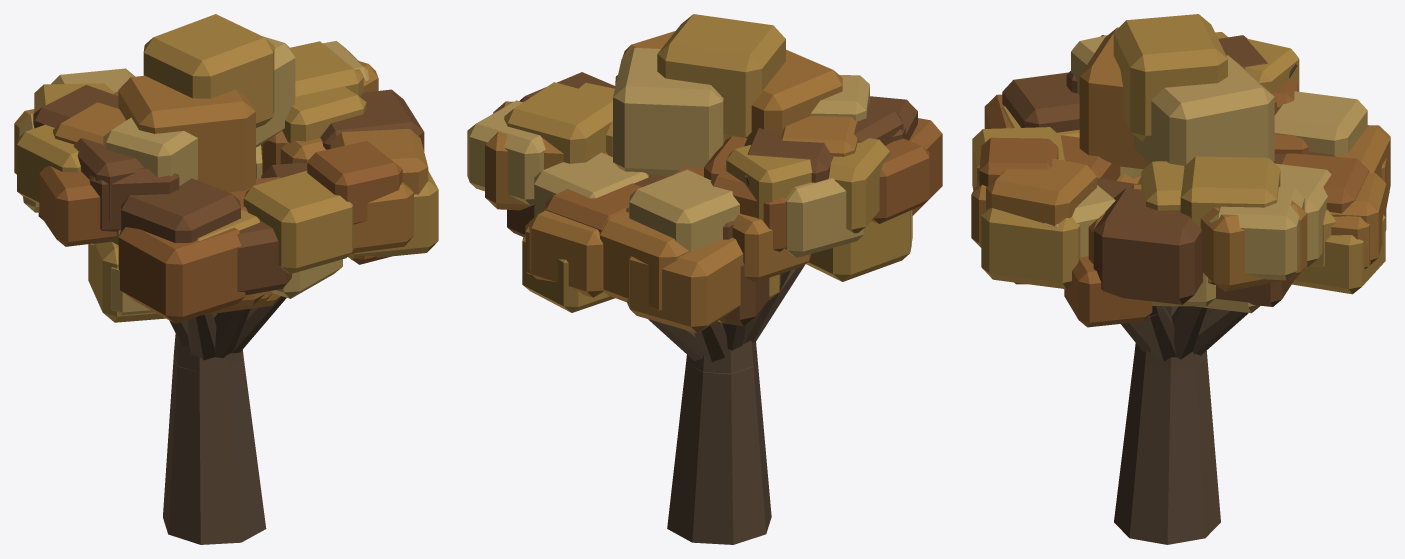
Rendered from oak_ancient_autumn_2.glb.
3 renders of one model, left to right at view 1: azimuth 30°, elevation 25°; view 2: azimuth 150°, elevation 25°; view 3: azimuth 270°, elevation 25°, orthographic.
Parts seen in each view (by area): view 1: oak_ancient_autumn_2; view 2: oak_ancient_autumn_2; view 3: oak_ancient_autumn_2.
Part boxes in pixels (box(x1,y1,x2,y2)): oak_ancient_autumn_2: box(14, 14, 438, 544); oak_ancient_autumn_2: box(467, 14, 942, 544); oak_ancient_autumn_2: box(971, 14, 1390, 544).
Size of the model in its own units: 19.57 by 24 by 18.77.
